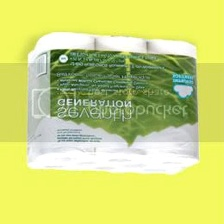tissue: (20, 27, 205, 181)
